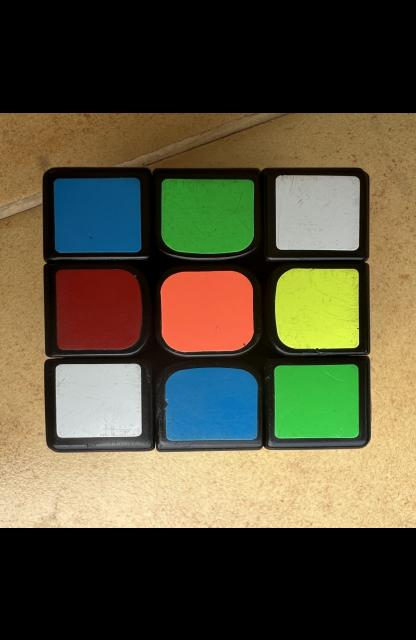Blue: (166, 367, 258, 440), (54, 177, 142, 252)
Green: (162, 178, 254, 253), (274, 363, 359, 438)
Orange: (160, 269, 254, 351)
Red: (56, 268, 142, 349)
White: (56, 362, 142, 437), (276, 174, 360, 250)
Yellow: (274, 267, 359, 348)
